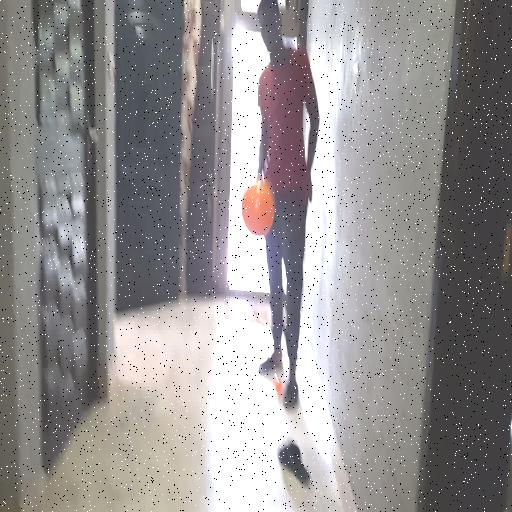plastic-ball: (242, 180, 274, 236)
